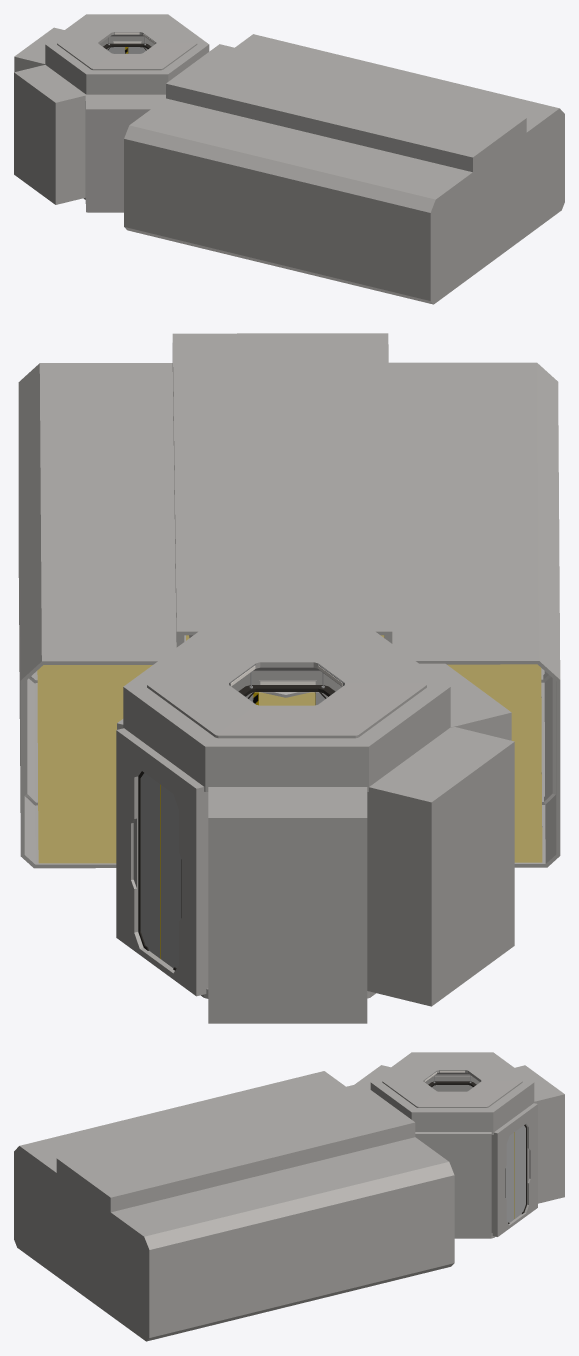
The model's file is room_model_v1.fbx.
3 renders of one model, top to bottom at view 1: azimuth 30°, elevation 25°; view 2: azimuth 150°, elevation 25°; view 3: azimuth 270°, elevation 25°, orthographic. The views are drawn at different scales.
Visible parts, largest first — view 1: another_room, wall (×3), ceiling, ceiling_railing; view 2: another_room, wall (×5), ceiling_railing, ceiling, door_R_1, door_L_2; view 3: another_room, wall (×3), ceiling, ceiling_railing, door_L_2, door_R_1, panel2.
Boxes of the visible parts, x1,y1,x2,y2 form: another_room: (124, 34, 564, 304); wall (×3): (14, 27, 165, 212); ceiling: (57, 17, 197, 70); ceiling_railing: (45, 14, 209, 94); another_room: (18, 333, 560, 868); wall (×5): (116, 663, 514, 1023); ceiling_railing: (123, 627, 450, 791); ceiling: (147, 632, 426, 738); door_R_1: (140, 773, 160, 958); door_L_2: (161, 785, 181, 968); another_room: (14, 1071, 454, 1341); wall (×3): (415, 1065, 564, 1236); ceiling: (382, 1055, 522, 1107); ceiling_railing: (370, 1052, 534, 1134); door_L_2: (514, 1125, 525, 1218); door_R_1: (505, 1132, 514, 1222); panel2: (433, 1076, 471, 1091).
Size of the model in its own units: 977 by 316 by 1232.
